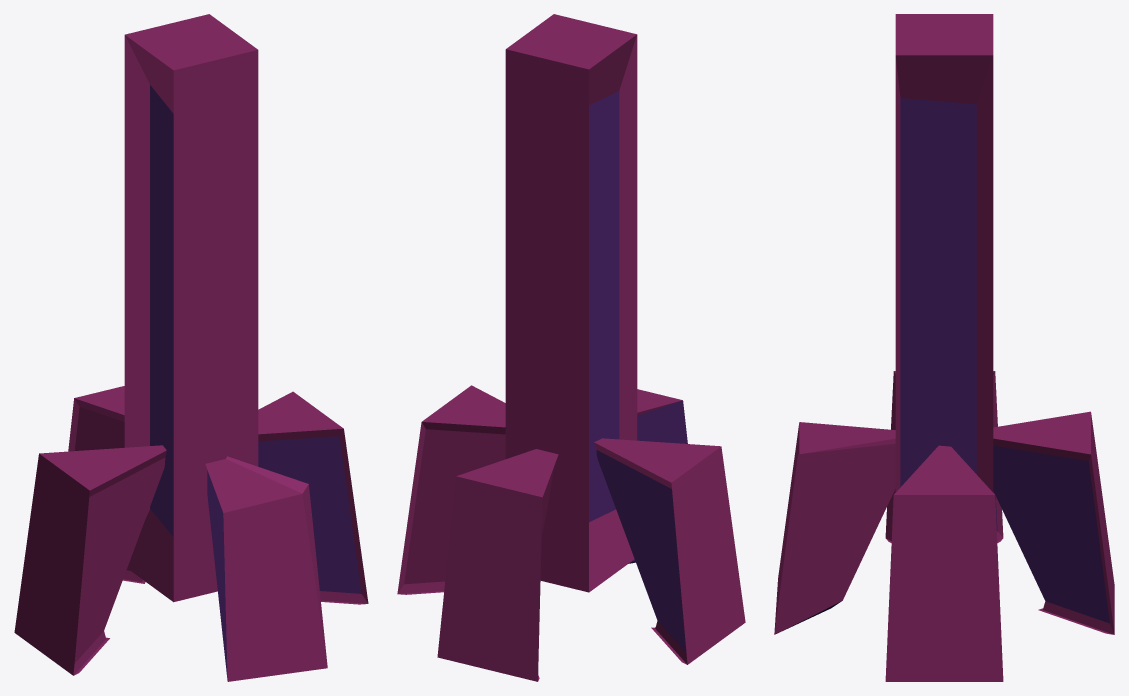
Rendered from Pillar-Shop.fbx.
The picture shows the model from 3 angles, left to right: view 1: azimuth 30°, elevation 25°; view 2: azimuth 150°, elevation 25°; view 3: azimuth 270°, elevation 25°; orthographic projection.
Parts seen in each view (by area): view 1: ShopPillar; view 2: ShopPillar; view 3: ShopPillar.
Boxes of the visible parts, bbox=[...] form: ShopPillar: bbox=[14, 14, 368, 681]; ShopPillar: bbox=[397, 14, 745, 681]; ShopPillar: bbox=[774, 14, 1114, 681].
Size of the model in its own units: 348 by 650 by 348.
